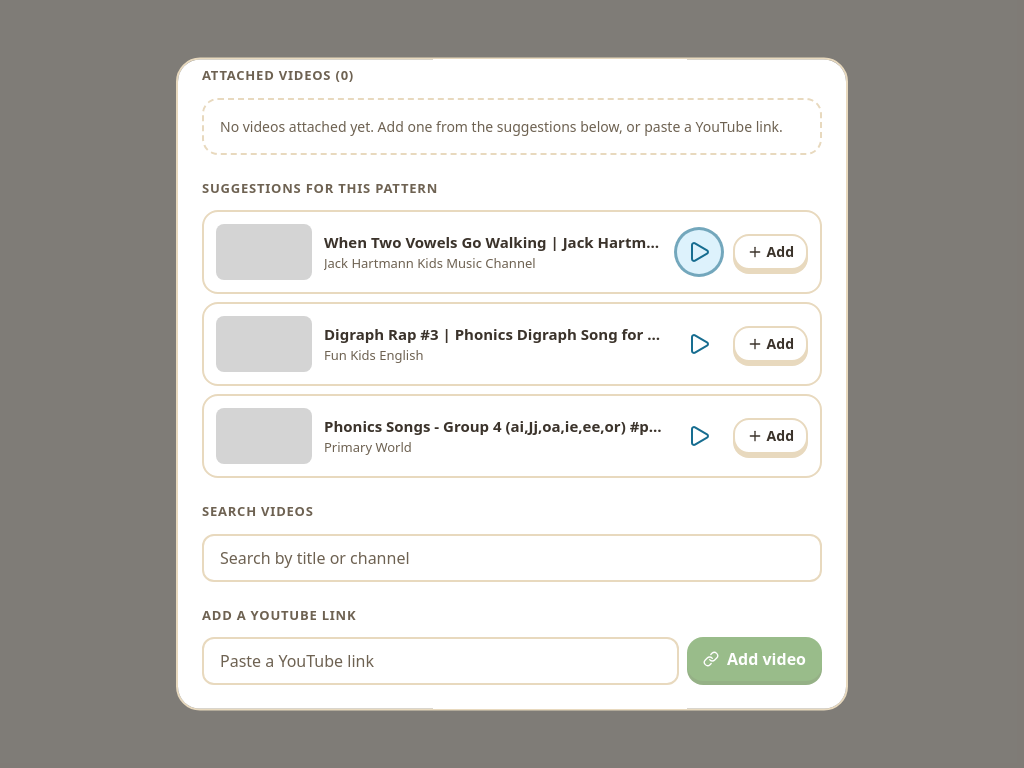
it: PatternVideoModal (editable) › rejects a paste that is not a YouTube link
(page scrolled)
Type "https://vimeo.com/123456789" into the field labelled "Paste a YouTube link" at (441, 661), box [202, 637, 679, 685]
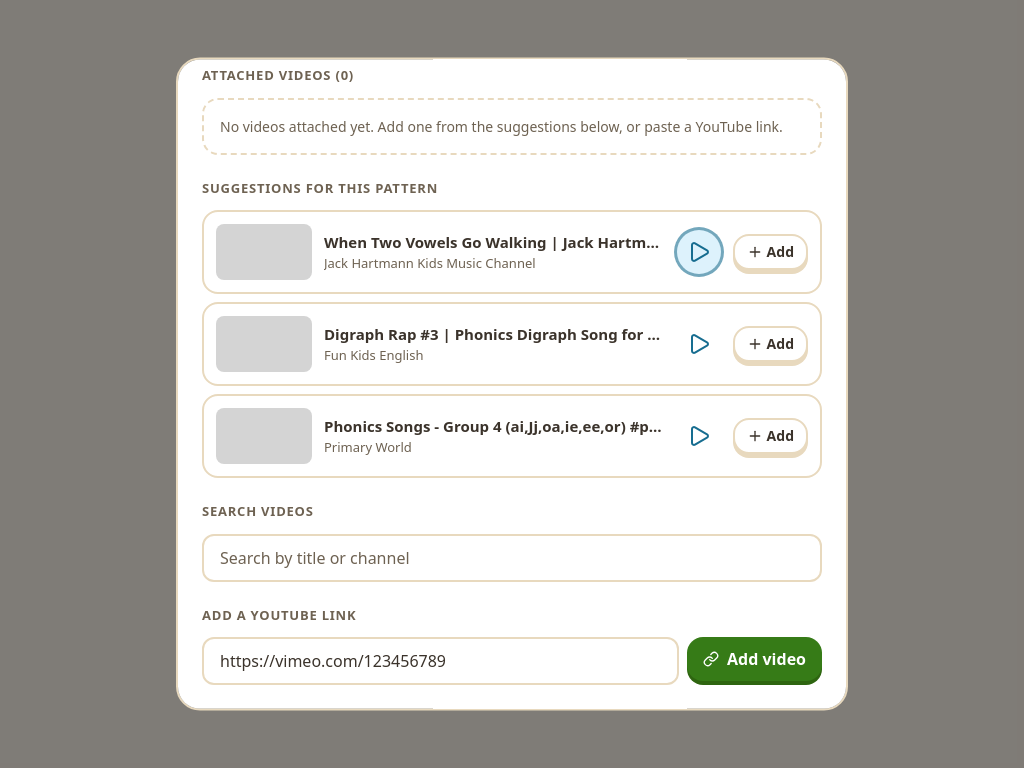
Click the button "Add video" at (755, 659), box [687, 637, 822, 681]
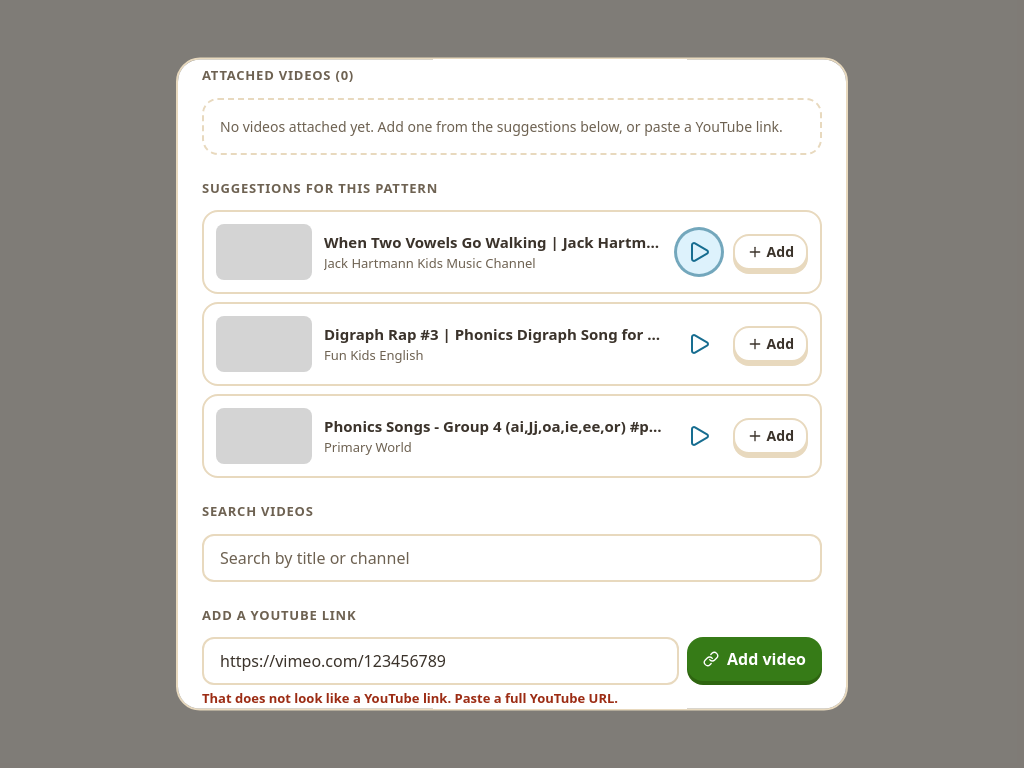
Result: the message shows "does not look like a YouTube link" at [202, 689, 618, 707]
